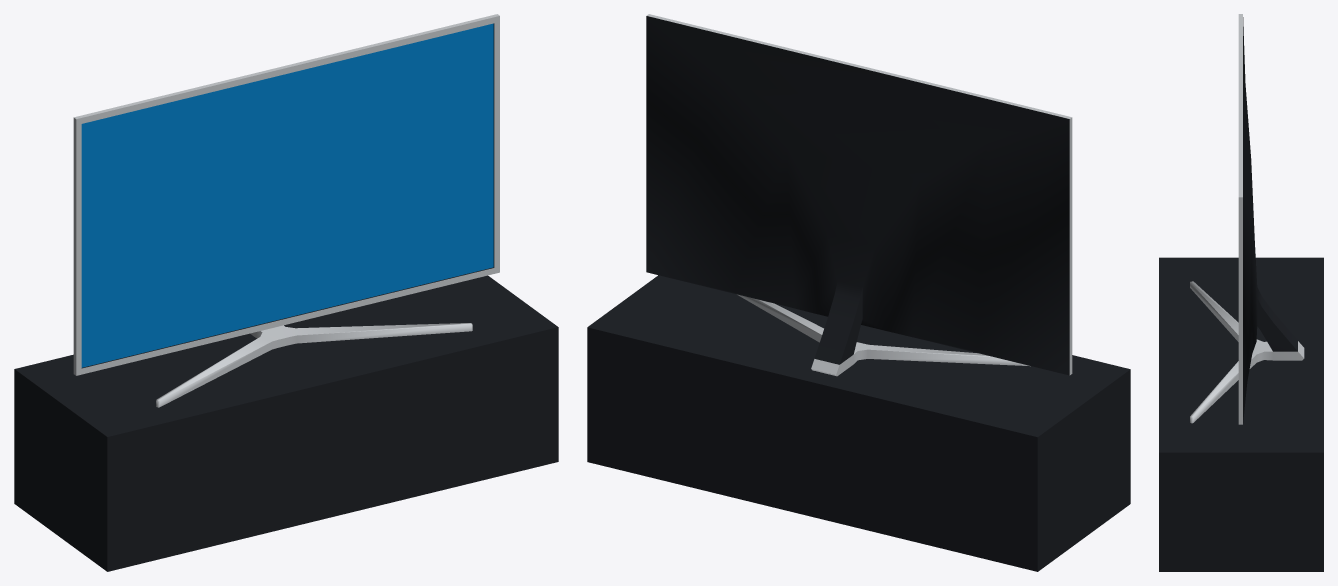
The model's file is Smart TV UE65MU6400 Series 6.fbx.
The picture shows the model from 3 angles, left to right: view 1: azimuth 30°, elevation 25°; view 2: azimuth 150°, elevation 25°; view 3: azimuth 270°, elevation 25°; orthographic projection. The views are drawn at different scales.
Visible parts, largest first — view 1: Smart_TV, Объект_Куб; view 2: Smart_TV, Объект_Куб; view 3: Объект_Куб, Smart_TV.
Boxes of the visible parts, <box> form: Smart_TV: <box>73,14,499,407</box>; Объект_Куб: <box>14,275,558,571</box>; Smart_TV: <box>646,14,1072,376</box>; Объект_Куб: <box>587,275,1130,571</box>; Объект_Куб: <box>1159,257,1323,571</box>; Smart_TV: <box>1190,14,1304,424</box>.
Bounding box in the file's own units: 700 × 618 × 250.
